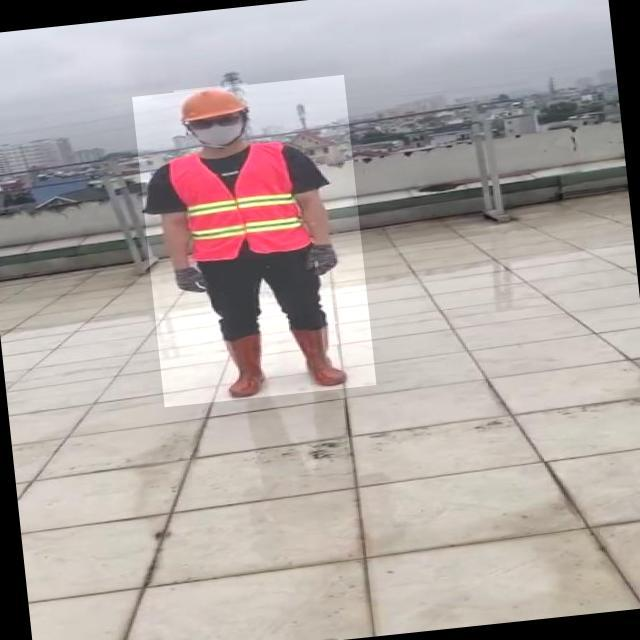Gloves: (304, 245, 341, 278), (170, 267, 206, 294)
Helmet: (173, 82, 250, 123)
Human: (132, 75, 376, 407)
Safety Boot: (286, 323, 350, 388), (219, 333, 271, 396)
Safety Vest: (166, 140, 311, 263)
